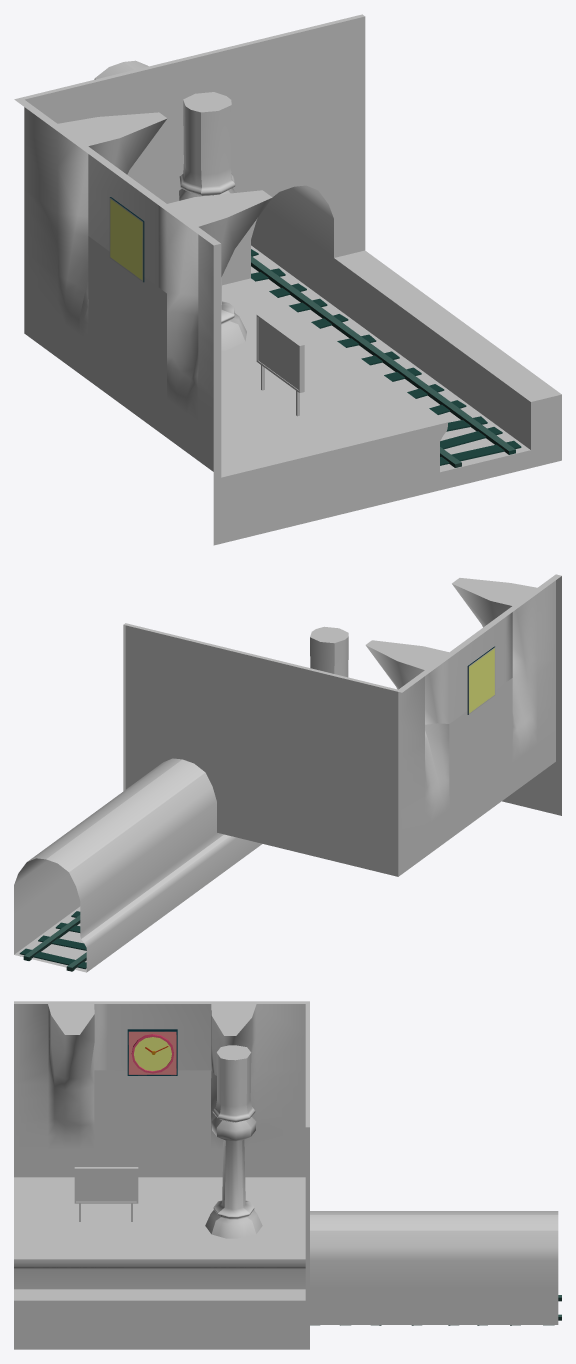
The model's file is station 1.fbx.
The picture shows the model from 3 angles, top to bottom: view 1: azimuth 30°, elevation 25°; view 2: azimuth 150°, elevation 25°; view 3: azimuth 270°, elevation 25°; orthographic projection. The views are drawn at different scales.
Visible parts, largest first — view 1: env_5, track_4, pCube79, pCylinder10; view 2: env_5, track_4, pCylinder10; view 3: env_5, pCube79, pCylinder10.
Boxes of the visible parts, left/top/right/bottom form: env_5: left=14, top=14, right=561, bottom=545; track_4: left=251, top=249, right=521, bottom=467; pCube79: left=256, top=313, right=304, bottom=416; pCylinder10: left=109, top=197, right=144, bottom=282; env_5: left=14, top=574, right=561, bottom=972; track_4: left=19, top=911, right=86, bottom=971; pCylinder10: left=467, top=646, right=495, bottom=714; env_5: left=14, top=1001, right=558, bottom=1349; pCube79: left=74, top=1167, right=138, bottom=1221; pCylinder10: left=127, top=1029, right=177, bottom=1075.
Bounding box in the file's own units: 20.22 × 16.64 × 37.16.
